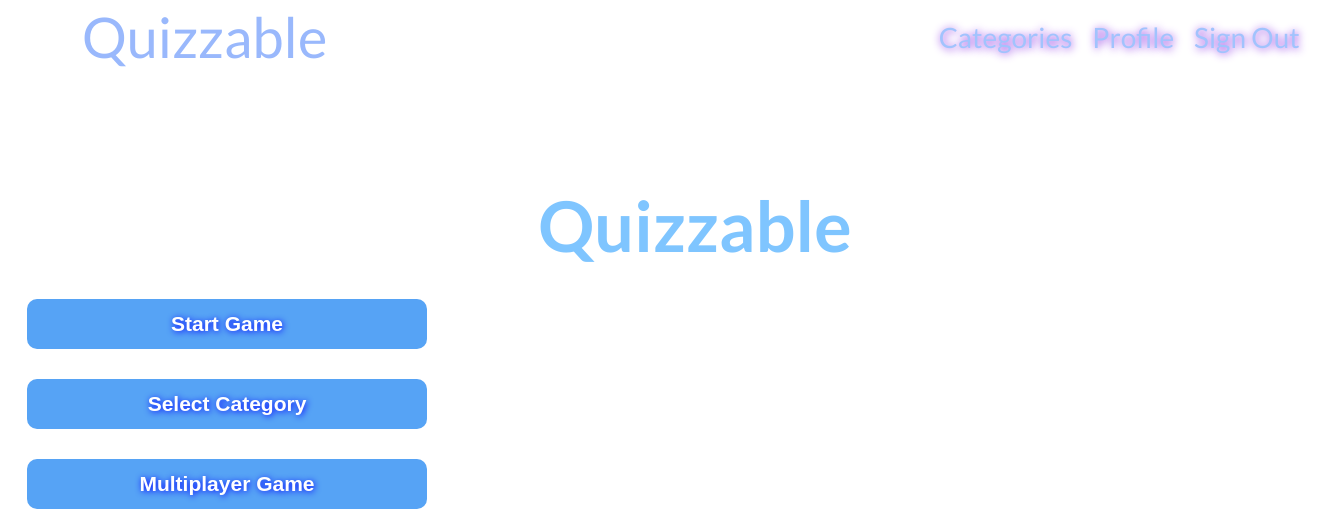
renders homepage for authorized users
Expected: the button "Select Category" is shown, [27,379,427,429]
// click on Profile should take to testuser profile page
Click the link "Profile": (1133, 37) [1092,27,1174,47]
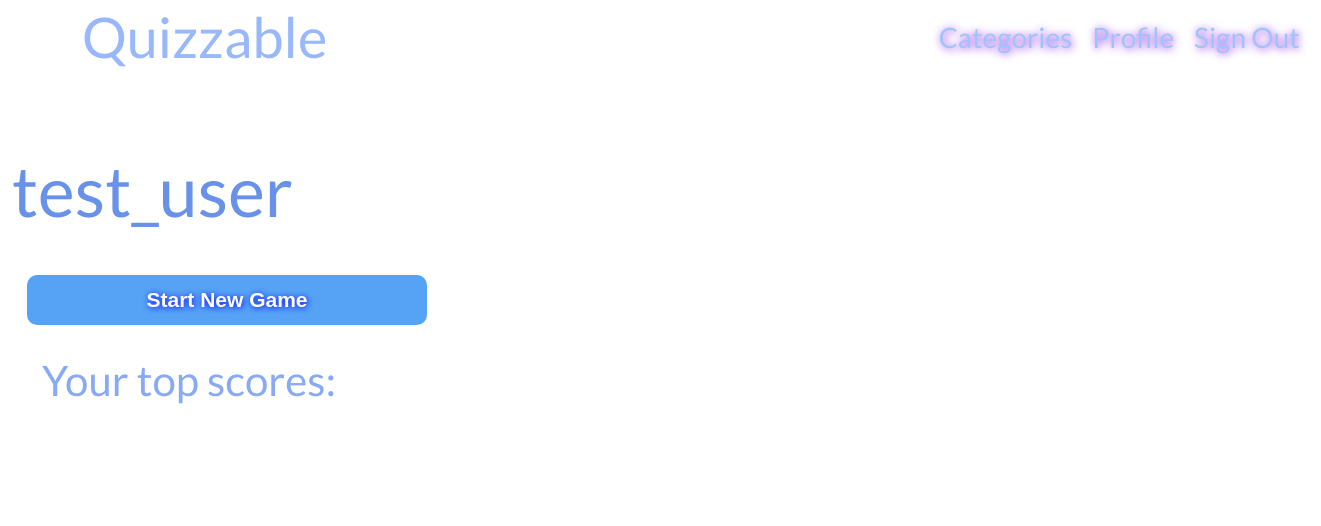
Expected: the text "test_user" is shown, [12,148,293,232]
